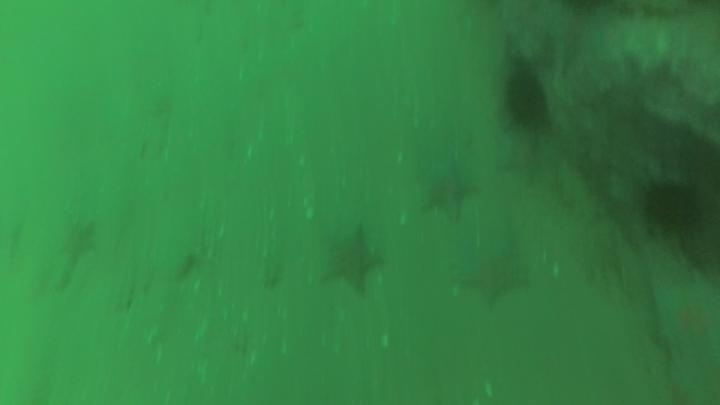echinus: (639, 176, 706, 239), (498, 61, 554, 134)
starfish: (450, 233, 534, 311), (648, 272, 720, 361), (316, 223, 387, 297), (38, 217, 99, 293), (414, 155, 482, 223), (494, 127, 563, 189)
